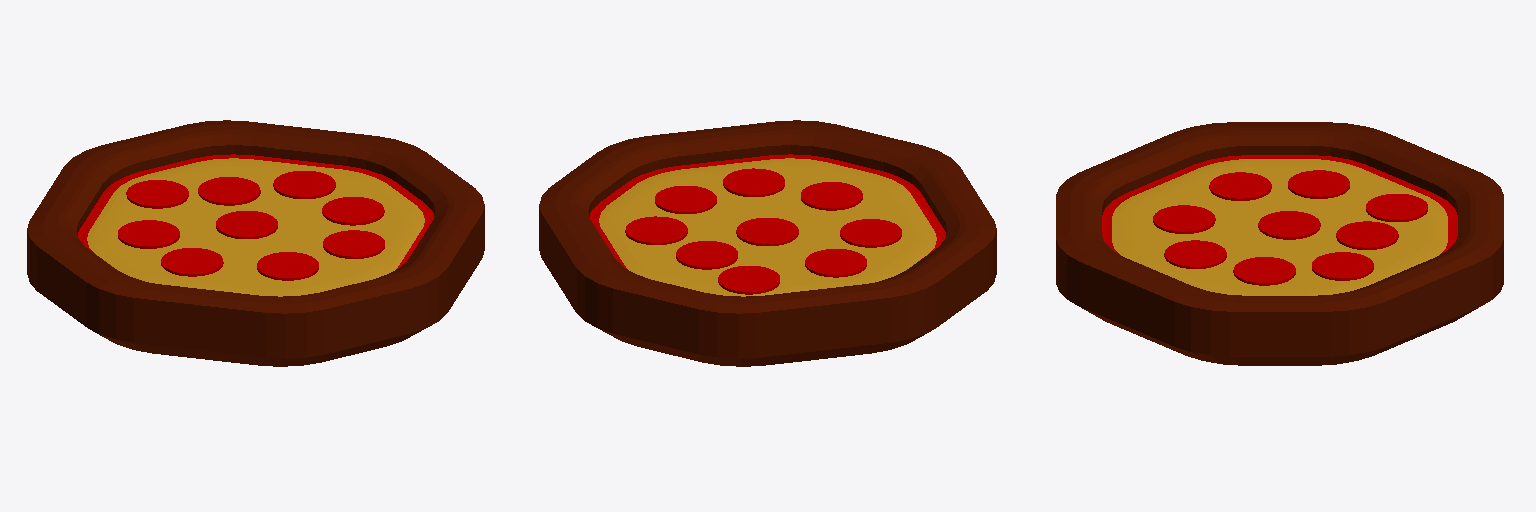
Rendered from Pepperoni Pizza.obj.
The picture shows the model from 3 angles: view 1: azimuth 30°, elevation 25°; view 2: azimuth 150°, elevation 25°; view 3: azimuth 270°, elevation 25°; orthographic projection.
Parts seen in each view (by area): view 1: Pepperoni_Pizza_Cube.001; view 2: Pepperoni_Pizza_Cube.001; view 3: Pepperoni_Pizza_Cube.001.
Boxes of the visible parts, box(x1,y1,x2,y2) form: Pepperoni_Pizza_Cube.001: box(27, 120, 484, 366); Pepperoni_Pizza_Cube.001: box(539, 120, 996, 366); Pepperoni_Pizza_Cube.001: box(1056, 122, 1503, 365).
Size of the model in its own units: 2 by 0.4132 by 2.